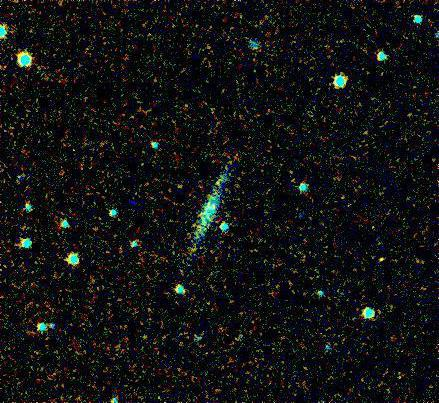star: (368, 245, 398, 275)
